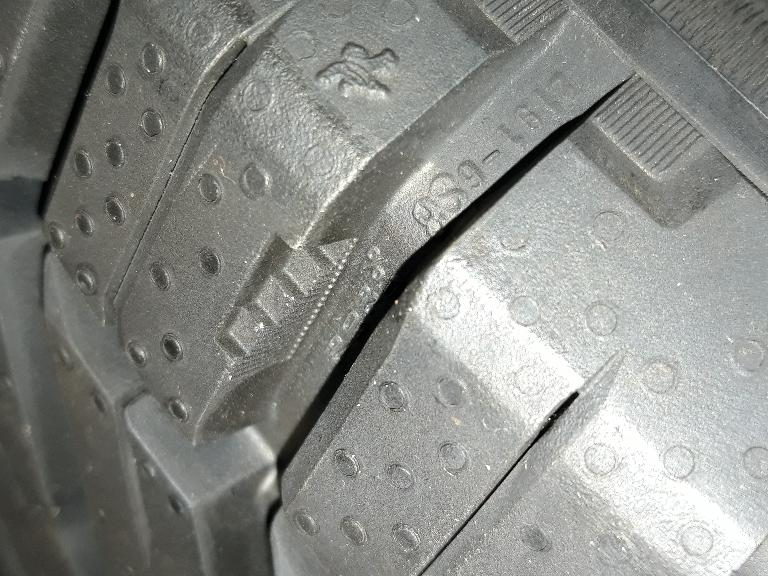temoin:100: (206, 225, 366, 387)
